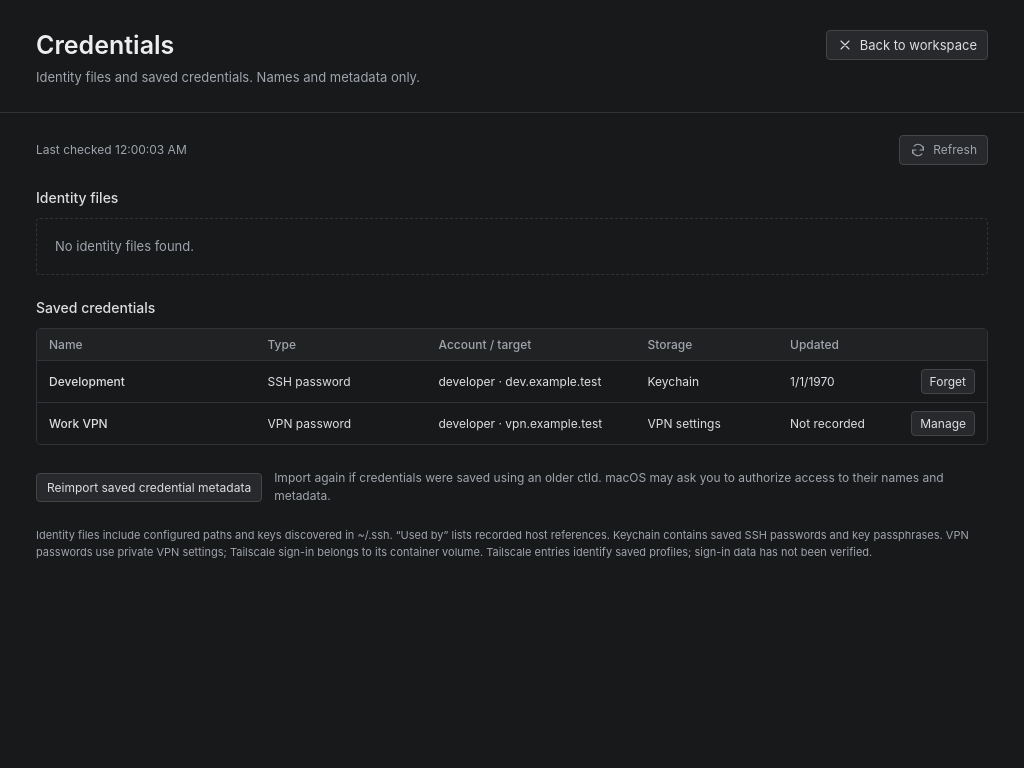
Scenario: Credentials page › reports deletion failure without removing the credential or claiming success
Click the button with aria-label "Forget Development": (948, 382) [921, 369, 975, 394]
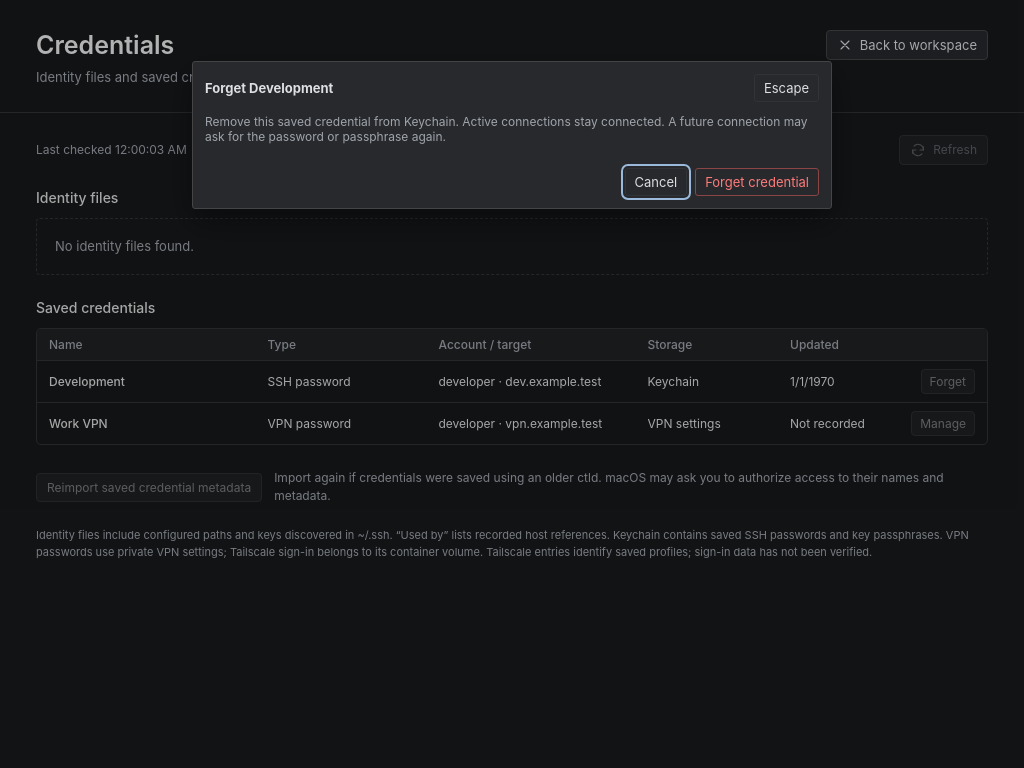
Click the button "Forget credential": (757, 182) [695, 168, 819, 196]
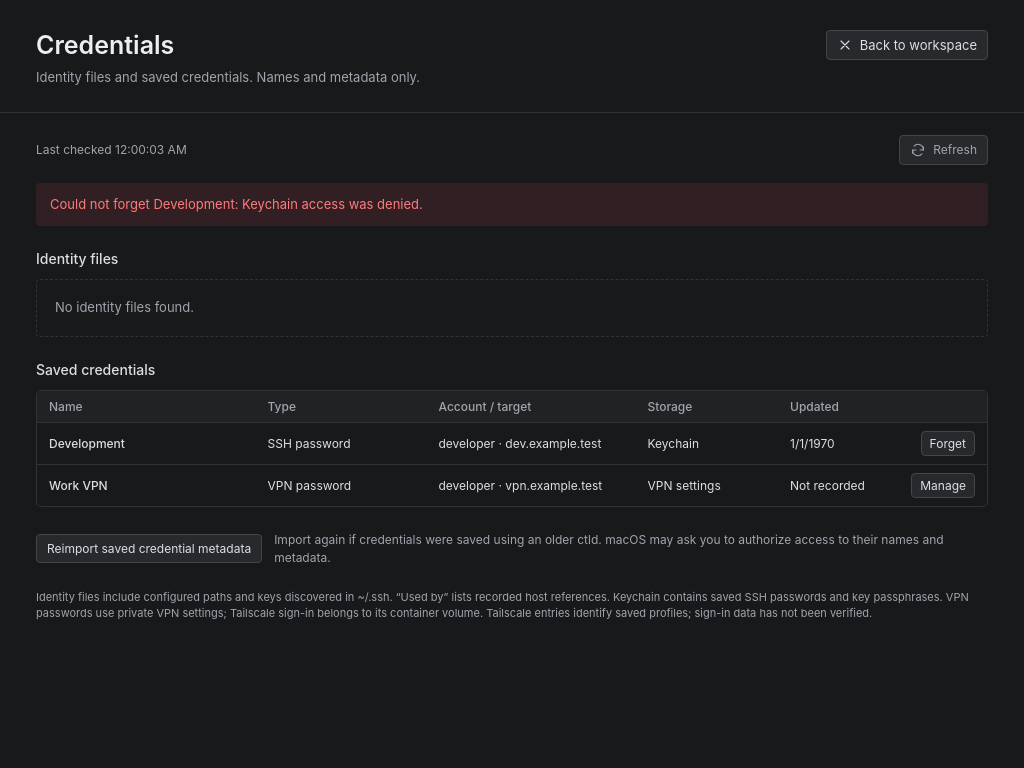
Now the message reads "Could not forget Development: Keychain access was denied.", box [50, 196, 423, 212]
Now the button with aria-label "Forget Development" is enabled, box [921, 430, 975, 456]
